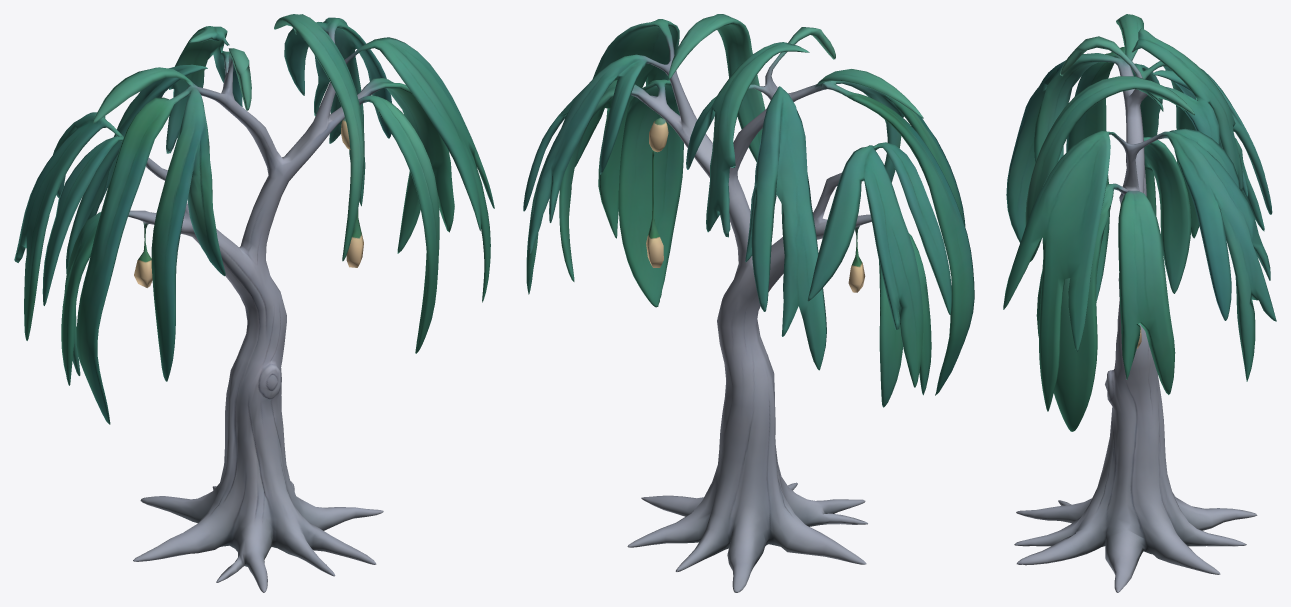
Rendered from lantern_tree.glb.
The picture shows the model from 3 angles, left to right: view 1: azimuth 30°, elevation 25°; view 2: azimuth 150°, elevation 25°; view 3: azimuth 270°, elevation 25°; orthographic projection. The views are drawn at different scales.
Visible parts, largest first — view 1: model; view 2: model; view 3: model.
Part boxes in pixels (box(x1,y1,x2,y2)): model: box(14, 14, 494, 592); model: box(523, 14, 974, 592); model: box(1003, 14, 1276, 592).
Size of the model in its own units: 1.62 by 1.9 by 0.9721.
1 material, 1 textured.
